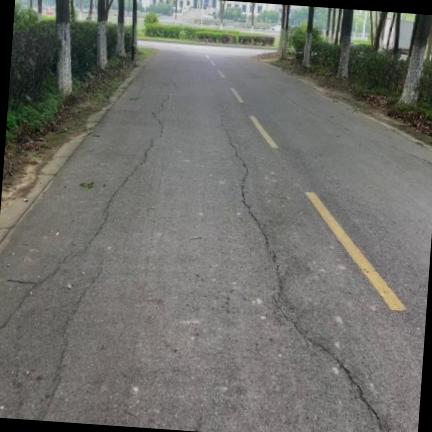Road: (0, 43, 431, 431)
